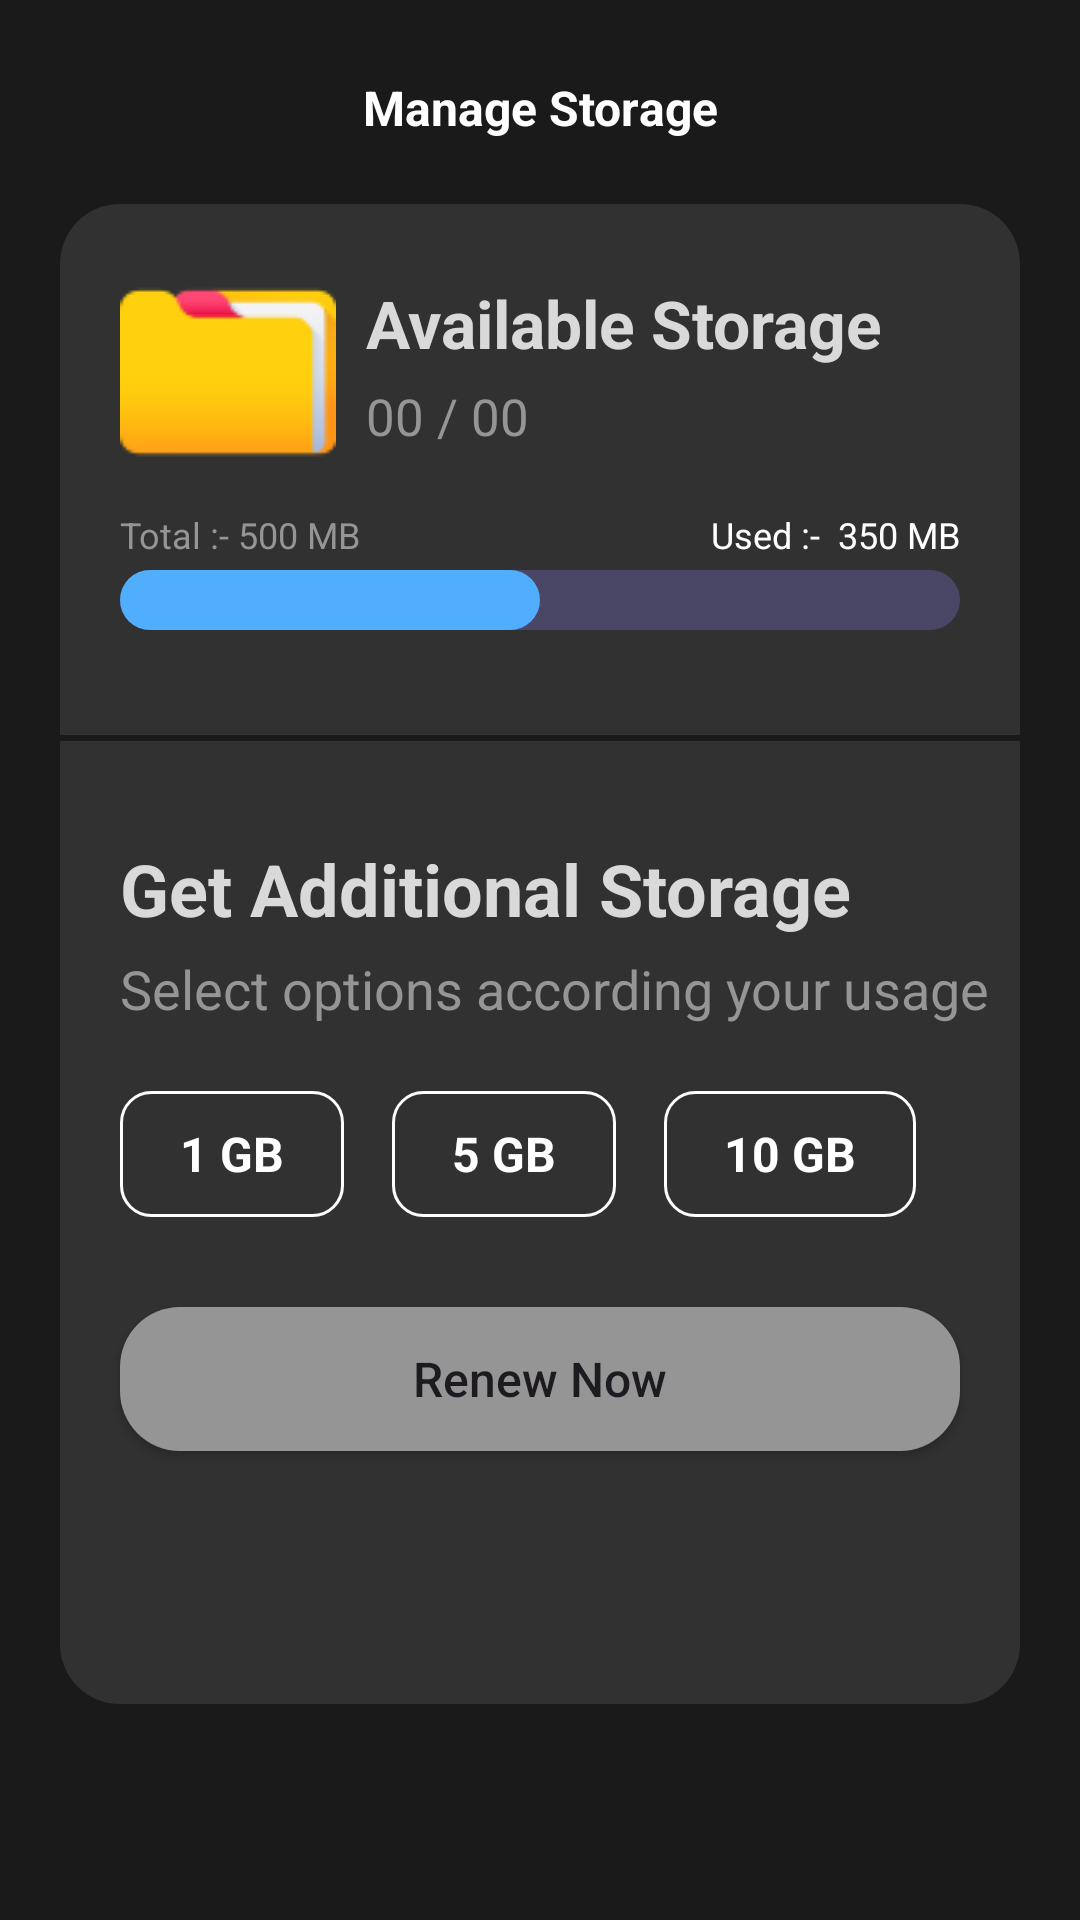

Point at icon controls on the screen. Image size 1080x1920, points as point (x, y).
file: point (228, 372)
